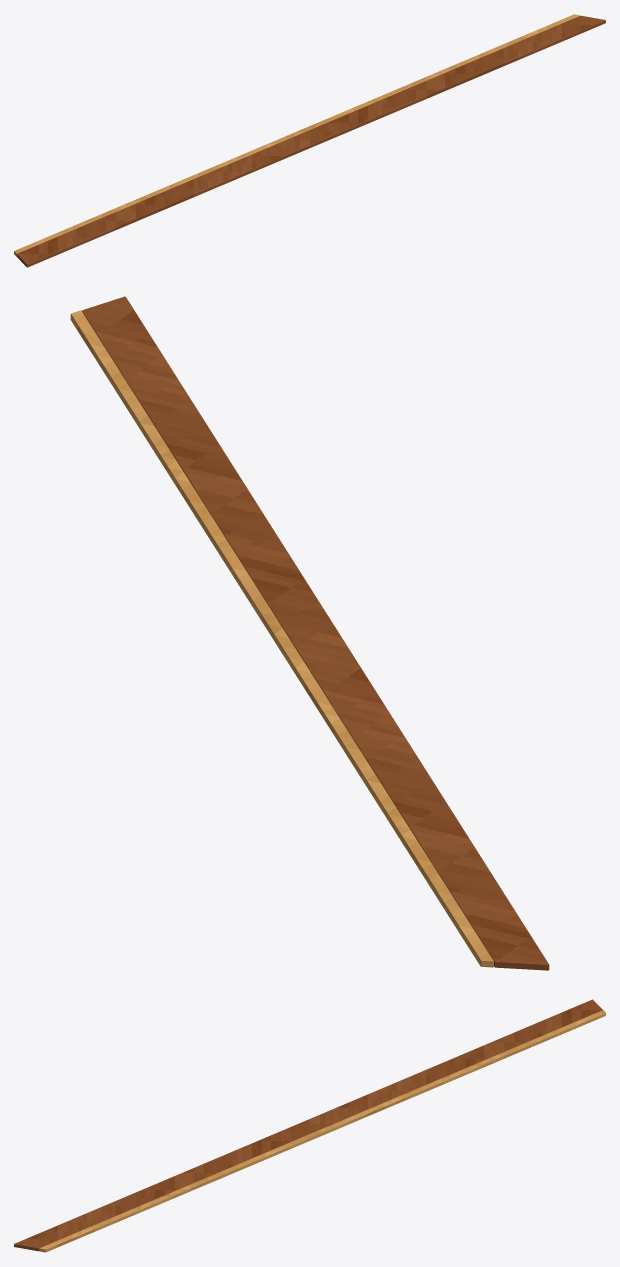
File: Border-7.glb
The picture shows the model from 3 angles, top to bottom: view 1: azimuth 90°, elevation 25°; view 2: azimuth 150°, elevation 25°; view 3: azimuth 270°, elevation 25°; orthographic projection. The views are drawn at different scales.
Parts seen in each view (by area): view 1: Border-7; view 2: Border-7; view 3: Border-7.
Boxes of the visible parts, x1,y1,x2,y2 form: Border-7: [14, 14, 605, 267]; Border-7: [70, 296, 549, 970]; Border-7: [14, 999, 605, 1252].
Bounding box in the file's own units: 2.39 × 0.016 × 2.39.
2 materials, 2 textured.
